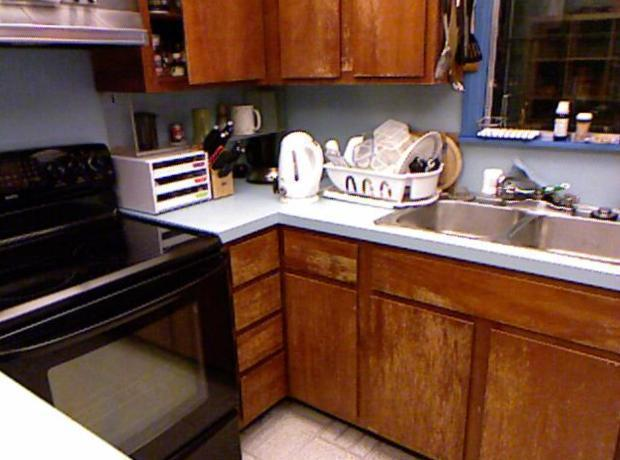Electrodomestico: (4, 139, 241, 456)
Lavaplatos: (368, 153, 618, 271)
